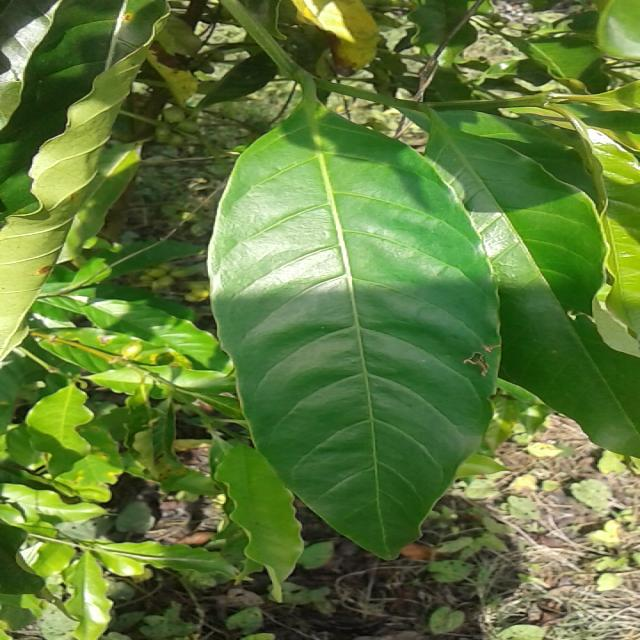Plaga-AranaRoja: (206, 91, 500, 562)
